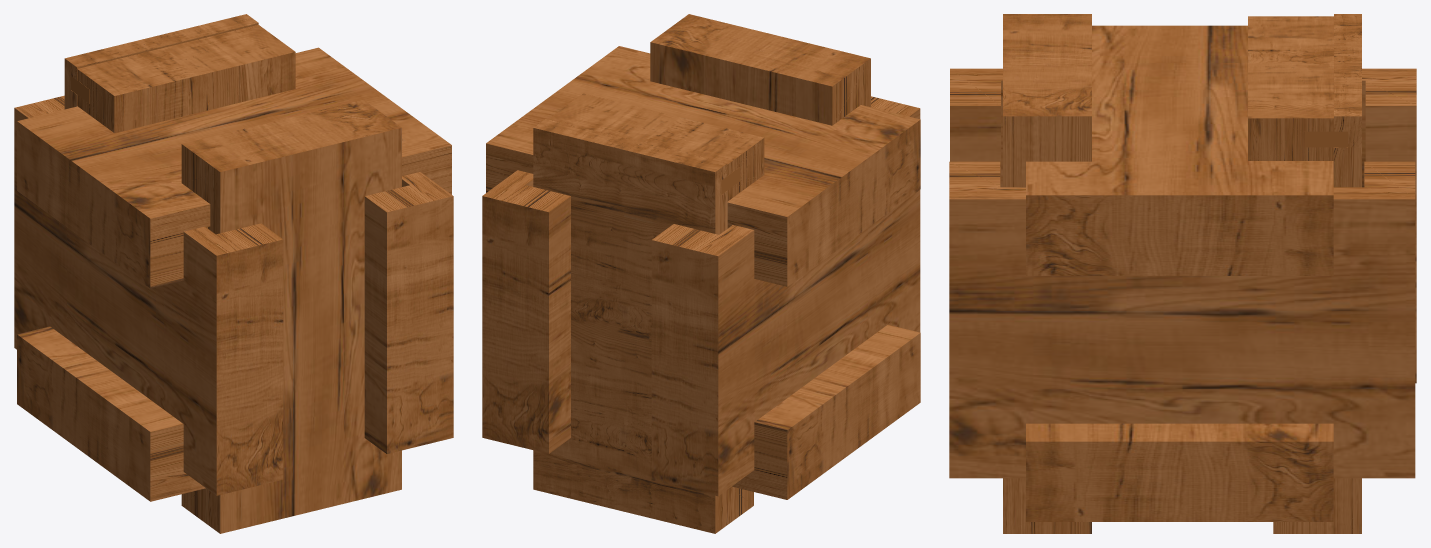
3 renders of one model, left to right at view 1: azimuth 30°, elevation 25°; view 2: azimuth 150°, elevation 25°; view 3: azimuth 270°, elevation 25°, orthographic. The views are drawn at different scales.
Parts seen in each view (by area): view 1: box; view 2: box; view 3: box.
Boxes of the visible parts, x1,y1,x2,y2 form: box: (14, 14, 453, 533); box: (482, 14, 920, 533); box: (949, 14, 1416, 533).
Size of the model in its own units: 2.56 by 2.94 by 2.98.
Materials: 3 (3 with a texture image).
